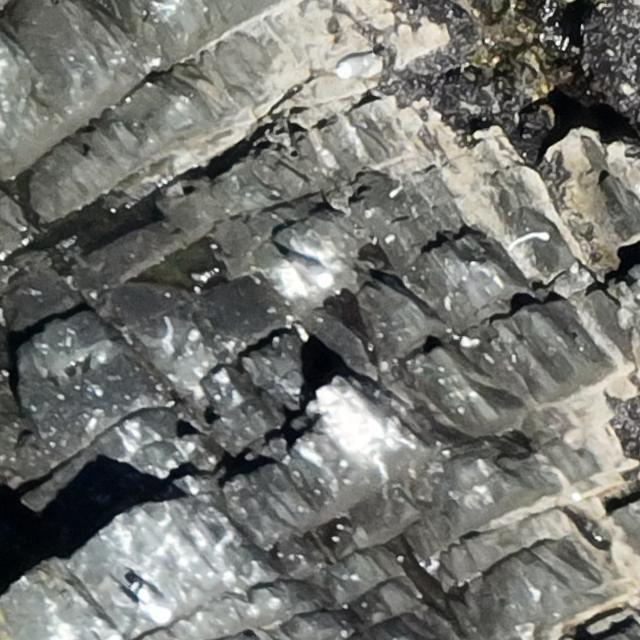umineko: (281, 245, 337, 291), (129, 576, 178, 627), (333, 49, 383, 80)
